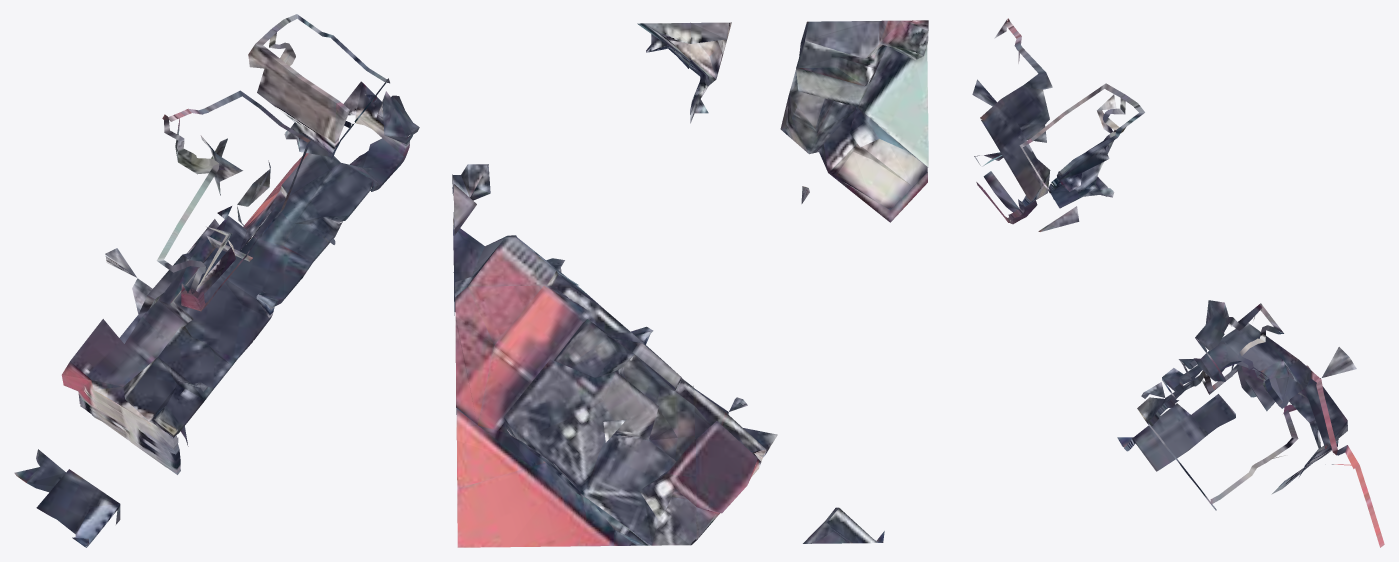
3 renders of one model, left to right at view 1: azimuth 30°, elevation 25°; view 2: azimuth 150°, elevation 25°; view 3: azimuth 270°, elevation 25°, orthographic. The views are drawn at different scales.
Bounding box in the file's own units: 34.2 × 38.76 × 33.88.
Materials: 1 (1 with a texture image).
